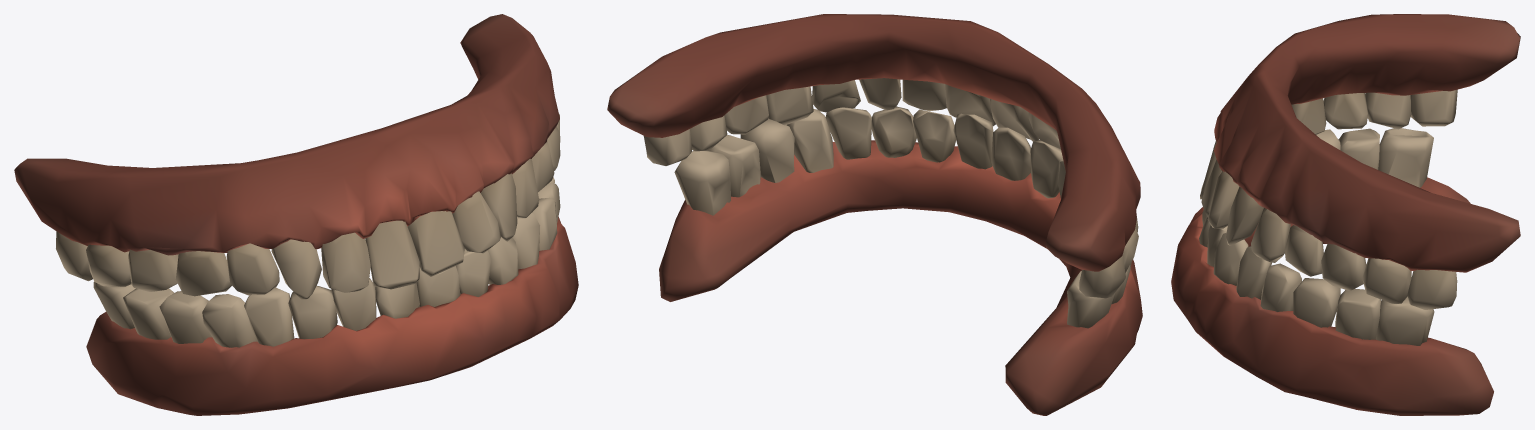
3 renders of one model, left to right at view 1: azimuth 30°, elevation 25°; view 2: azimuth 150°, elevation 25°; view 3: azimuth 270°, elevation 25°, orthographic.
Visible parts, largest first — view 1: Teeth; view 2: Teeth; view 3: Teeth.
Part boxes in pixels (x1,y1,x2,y2): Teeth: [14, 14, 578, 415]; Teeth: [607, 14, 1142, 415]; Teeth: [1171, 14, 1520, 415].
Size of the model in its own units: 0.1375 by 0.0726 by 0.0857.
